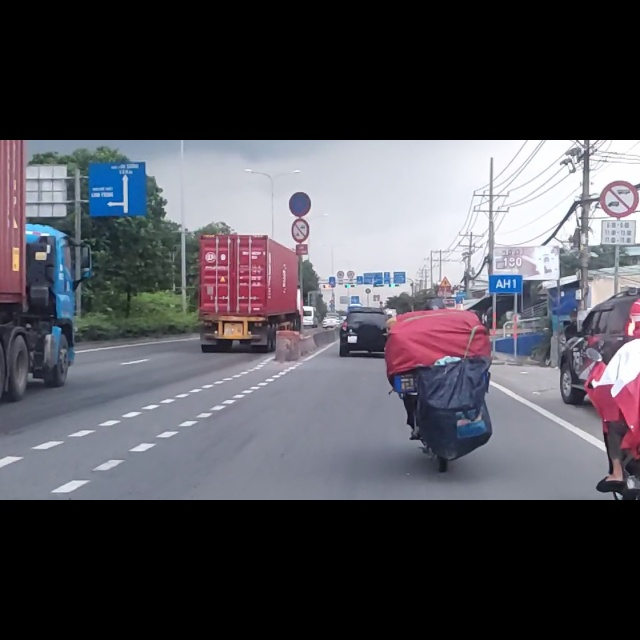bien_cam: (601, 72, 639, 140), (288, 91, 312, 135), (291, 140, 311, 181)
